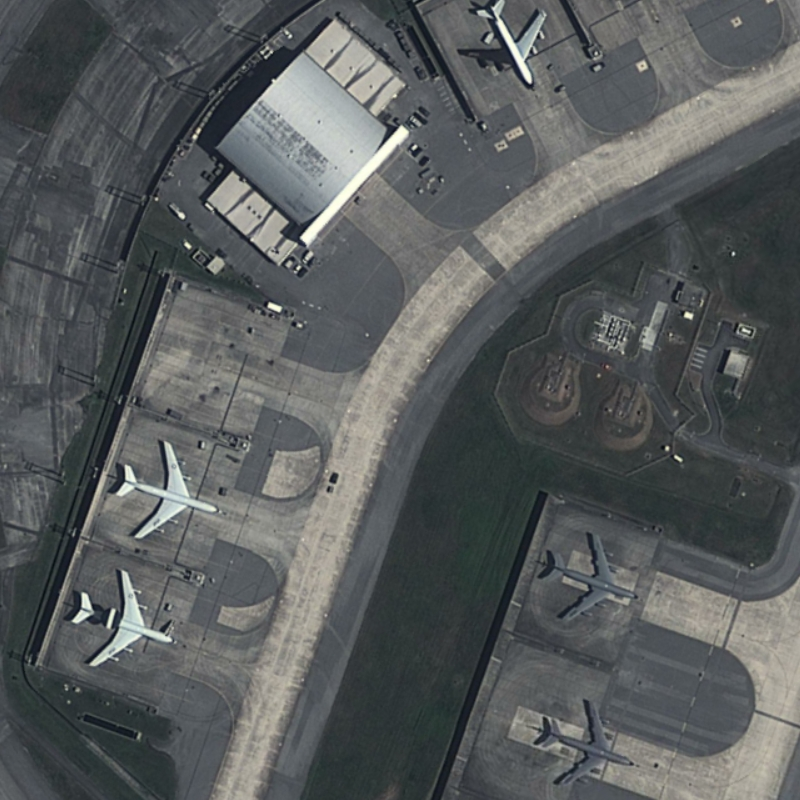A11: (106, 436, 227, 545), (453, 1, 554, 95)
A14: (532, 529, 641, 629), (530, 692, 640, 791)
A7: (55, 565, 182, 672)
